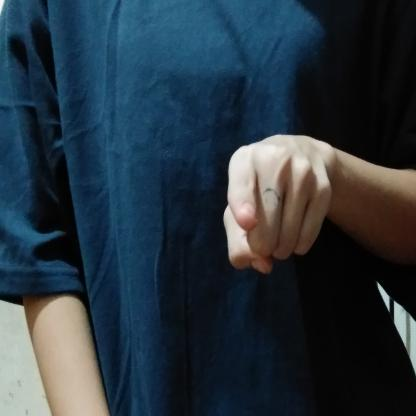you: (210, 128, 340, 289)
